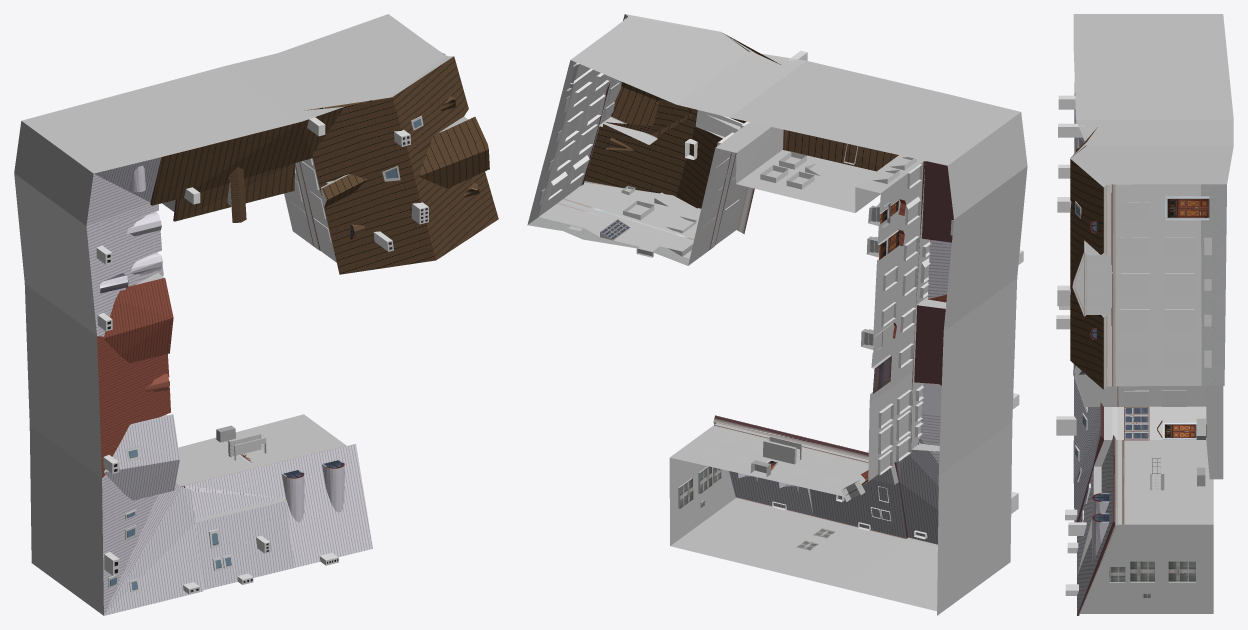
The model's file is Uus_23-origo.obj.
3 views of the same model, side by side, from view 1: azimuth 30°, elevation 25°; view 2: azimuth 150°, elevation 25°; view 3: azimuth 270°, elevation 25° (orthographic). The views are drawn at different scales.
Parts seen in each view (by area): view 1: Uus_23; view 2: Uus_23; view 3: Uus_23.
Boxes of the visible parts, x1,y1,x2,y2 form: Uus_23: (14, 14, 498, 615); Uus_23: (527, 14, 1027, 615); Uus_23: (1056, 14, 1233, 615).
Size of the model in its own units: 43.62 by 45 by 15.22.
